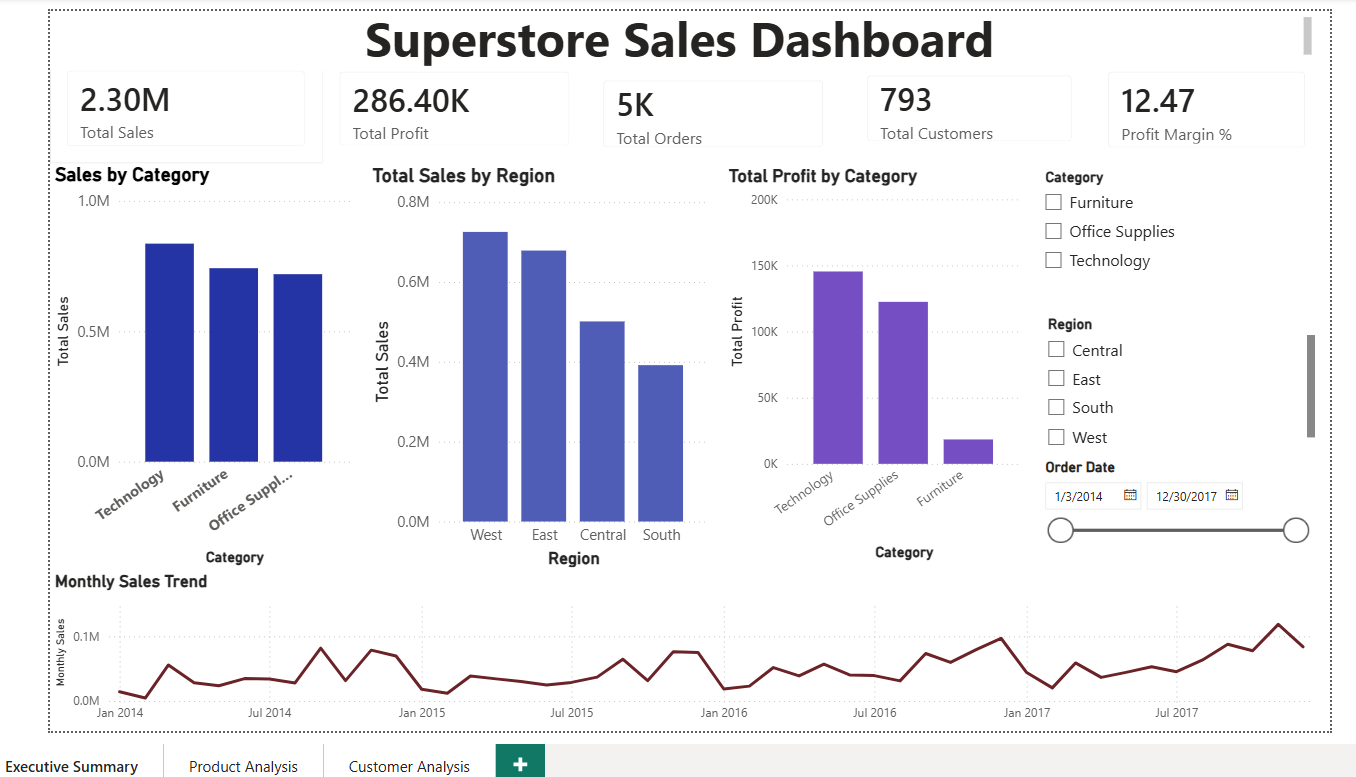

What the dashboard file says about the page in this screenshot:
{"tool":"powerbi","page":{"name":"Executive Summary","canvas":[1280,720],"ordinal":0},"visuals":[{"type":"cardVisual","fields":{"Data":["Sample - Superstore csv.Total Sales"]},"box":[0,42.8,272.7,110.1],"z":0},{"type":"cardVisual","fields":{"Data":["Sample - Superstore csv.Total Profit"]},"box":[272.7,44,264.1,108.8],"z":1000},{"type":"cardVisual","fields":{"Data":["Sample - Superstore csv.Total Orders"]},"box":[536.8,52.6,254.3,101.5],"z":2000},{"type":"cardVisual","fields":{"Data":["Sample - Superstore csv.Total Customers"]},"box":[799.7,47.7,239.7,100.3],"z":3000},{"type":"cardVisual","fields":{"Data":["Sample - Superstore csv.Profit Margin %"]},"box":[1040.6,44,231.1,110.1],"z":4000},{"type":"clusteredColumnChart","title":"Sales by Category","fields":{"Category":["Sample - Superstore csv.Category"],"Y":["Sample - Superstore csv.Total Sales"]},"box":[0,152.9,305.7,407.2],"z":5000},{"type":"clusteredColumnChart","fields":{"Category":["Sample - Superstore csv.Region"],"Y":["Sample - Superstore csv.Total Sales"]},"box":[317.9,154.1,346.1,407.2],"z":6000},{"type":"clusteredColumnChart","fields":{"Category":["Sample - Superstore csv.Category"],"Y":["Sample - Superstore csv.Total Profit"]},"box":[673.8,154.1,303.3,401.1],"z":7000},{"type":"slicer","fields":{"Values":["Sample - Superstore csv.Region"]},"box":[985.6,299.6,284.9,143.1],"z":8000},{"type":"slicer","fields":{"Values":["Sample - Superstore csv.Category"]},"box":[981.9,152.9,289.8,143.1],"z":9000},{"type":"slicer","fields":{"Values":["Sample - Superstore csv.Order Date"]},"box":[981.9,442.7,284.9,151.6],"z":10000},{"type":"lineChart","title":"Monthly Sales Trend","fields":{"Y":["Sample - Superstore csv.Monthly Sales"],"Category":["Sample - Superstore csv.Order Date.Variation.Date Hierarchy.Year","Sample - Superstore csv.Order Date.Variation.Date Hierarchy.Month"]},"box":[0,560.1,1280.3,160.2],"z":11000},{"type":"textbox","box":[0,1.2,1266.9,58.7],"z":12000}]}

Visuals, with their boxes on the page's 1280x720 design canvas (x1, y1, x2, y2). These are canvas units, not pixel positions in the 1356x777 screenshot, which may show the page scaled, cropped or inside an application window:
cardVisual - Sample - Superstore csv.Total Sales: [left=0, top=43, right=273, bottom=153]
cardVisual - Sample - Superstore csv.Total Profit: [left=273, top=44, right=537, bottom=153]
cardVisual - Sample - Superstore csv.Total Orders: [left=537, top=53, right=791, bottom=154]
cardVisual - Sample - Superstore csv.Total Customers: [left=800, top=48, right=1039, bottom=148]
cardVisual - Sample - Superstore csv.Profit Margin %: [left=1041, top=44, right=1272, bottom=154]
"Sales by Category" clusteredColumnChart: [left=0, top=153, right=306, bottom=560]
clusteredColumnChart - Sample - Superstore csv.Region x Sample - Superstore csv.Total Sales: [left=318, top=154, right=664, bottom=561]
clusteredColumnChart - Sample - Superstore csv.Category x Sample - Superstore csv.Total Profit: [left=674, top=154, right=977, bottom=555]
slicer - Sample - Superstore csv.Region: [left=986, top=300, right=1270, bottom=443]
slicer - Sample - Superstore csv.Category: [left=982, top=153, right=1272, bottom=296]
slicer - Sample - Superstore csv.Order Date: [left=982, top=443, right=1267, bottom=594]
"Monthly Sales Trend" lineChart: [left=0, top=560, right=1280, bottom=720]
textbox: [left=0, top=1, right=1267, bottom=60]
